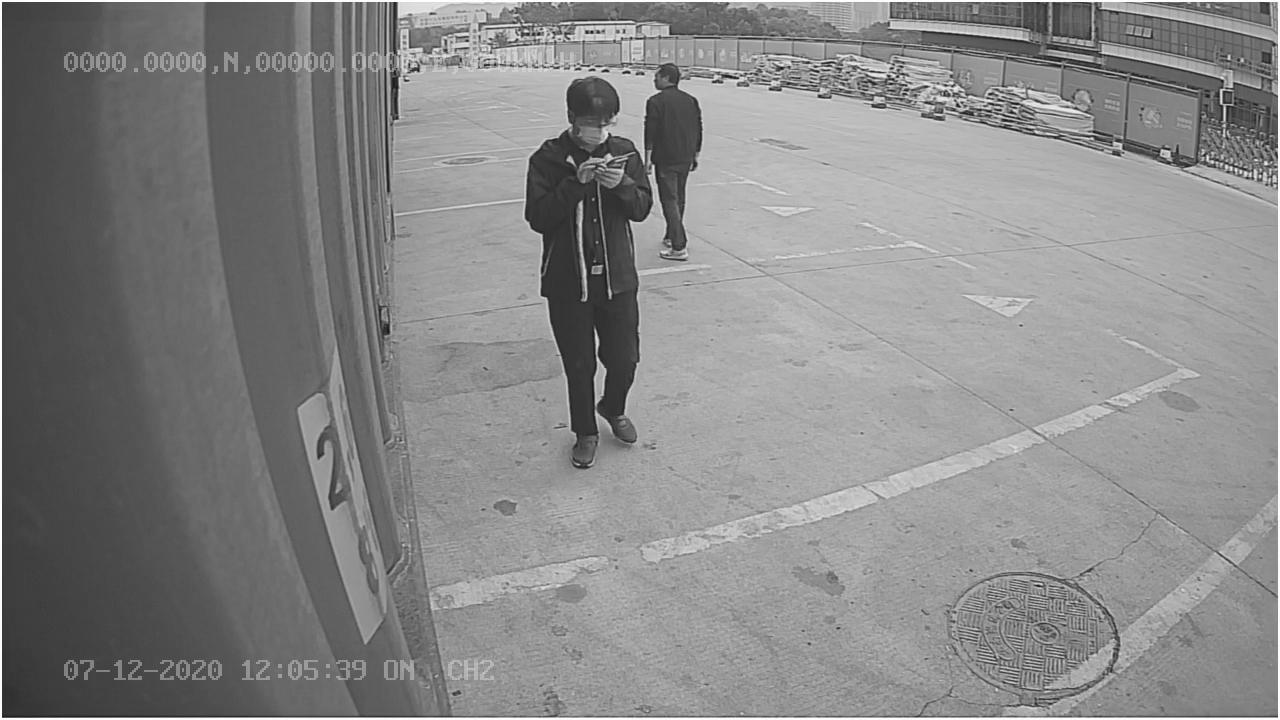person: (520, 79, 653, 471)
